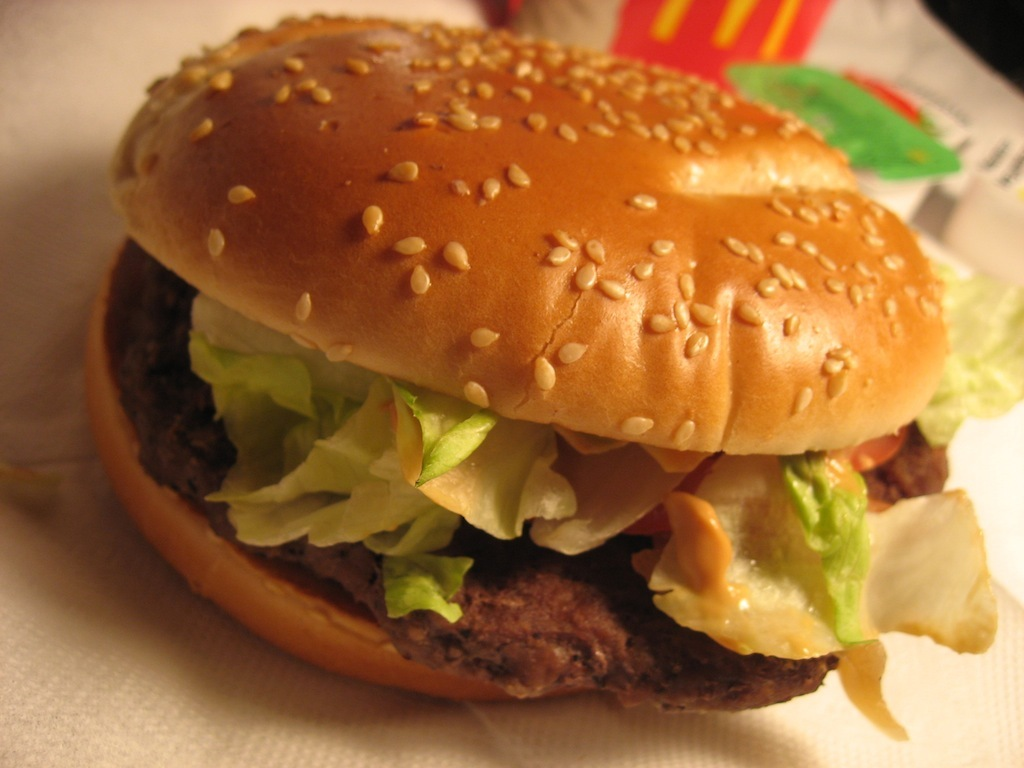Hamburger: (83, 12, 1022, 742)
